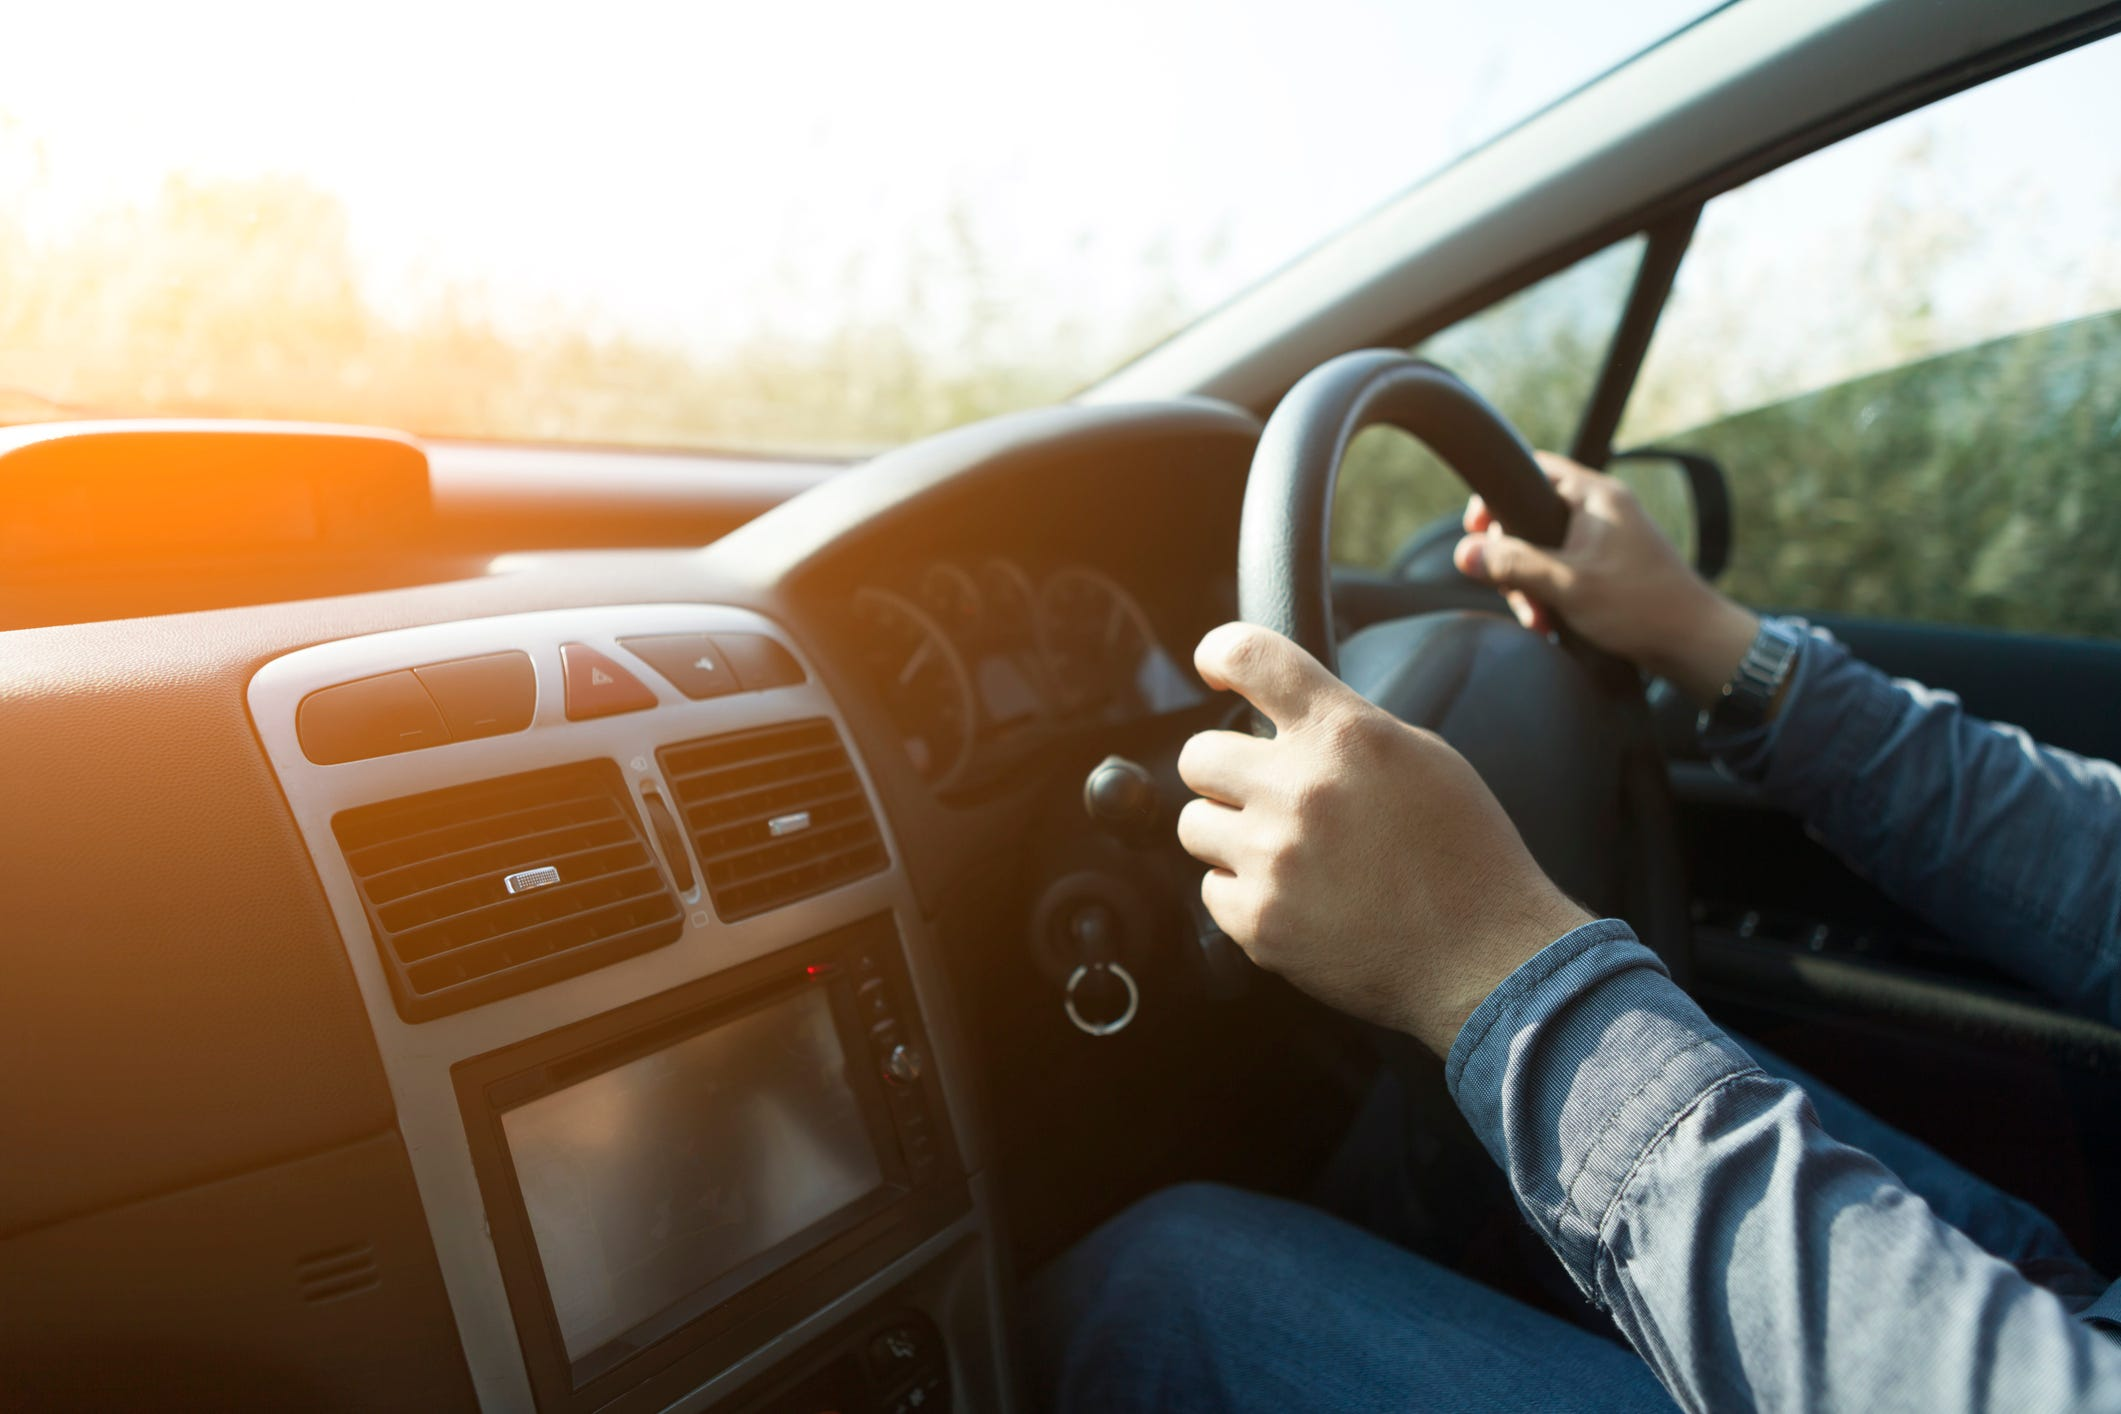Driving: (99, 69, 2099, 1367)
